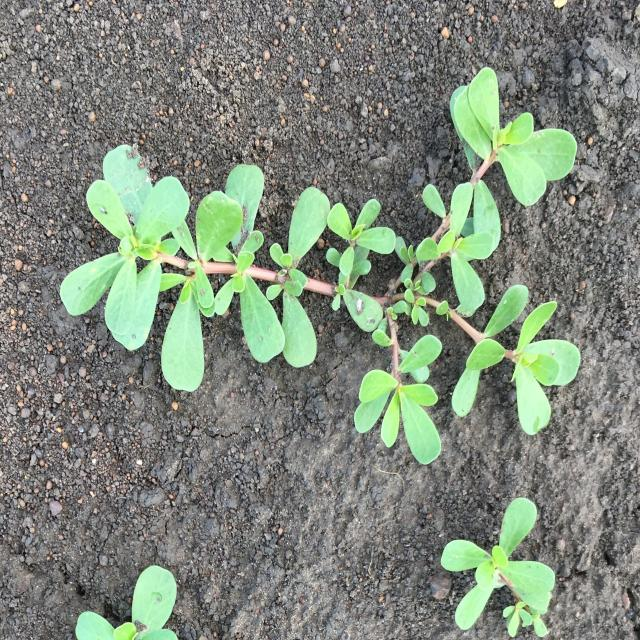Purslane: (60, 67, 580, 464), (441, 498, 555, 638)
